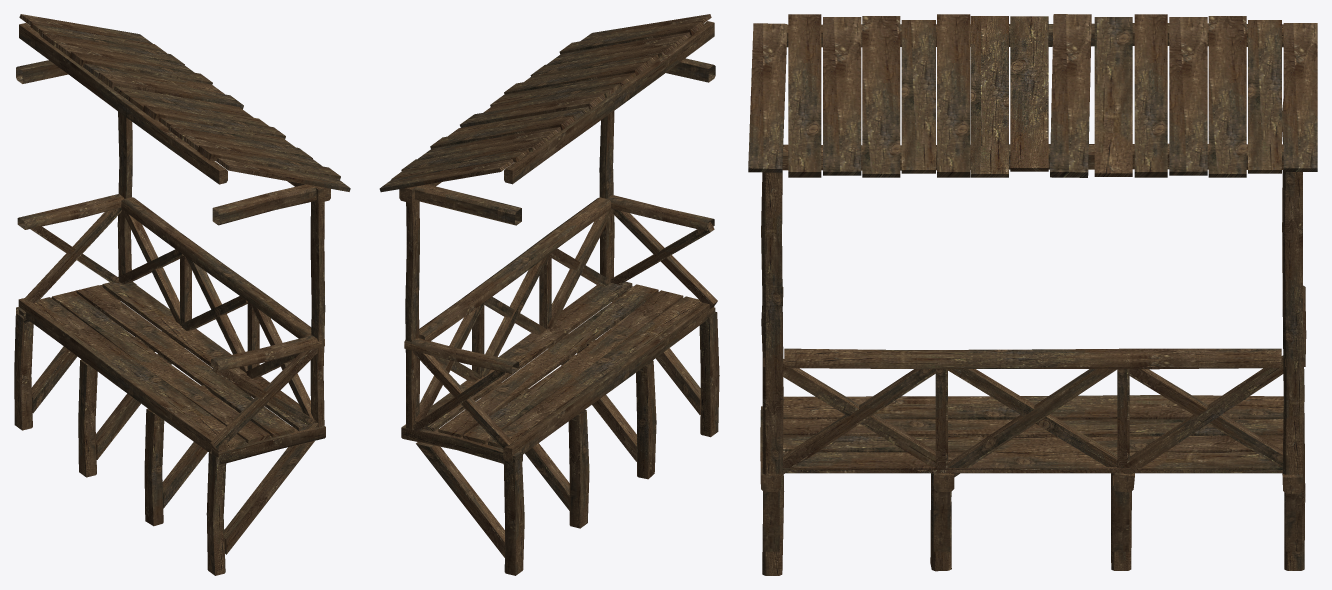
Rendered from OldHouseHayat.obj.
3 views of the same model, side by side, from view 1: azimuth 30°, elevation 25°; view 2: azimuth 150°, elevation 25°; view 3: azimuth 270°, elevation 25° (orthographic). The views are drawn at different scales.
Parts seen in each view (by area): view 1: Box08, Box09, Box06, Box10, Box14, Box07, Box01, Box05, Box49, Object03, Box48, Box47 (+37 smaller); view 2: Box08, Box09, Box06, Box10, Box14, Box07, Box01, Box11, Box52, Object03, Box46, Box47 (+36 smaller); view 3: Box14, Box07, Box05, Box33, Box11, Box32, Box37, Box42, Box34, Box36, Box41, Box31 (+29 smaller).
Part boxes in pixels (bbox=[...]): Box08: bbox=[76, 285, 294, 437]; Box09: bbox=[52, 291, 270, 443]; Box06: bbox=[18, 298, 227, 457]; Box10: bbox=[19, 23, 227, 184]; Box14: bbox=[121, 197, 311, 338]; Box07: bbox=[102, 281, 317, 431]; Box01: bbox=[33, 297, 245, 448]; Box05: bbox=[310, 201, 325, 427]; Box49: bbox=[224, 441, 314, 554]; Object03: bbox=[206, 451, 226, 575]; Box48: bbox=[144, 408, 164, 526]; Box47: bbox=[78, 359, 97, 477]; Box08: bbox=[438, 284, 658, 437]; Box09: bbox=[463, 290, 683, 444]; Box06: bbox=[503, 302, 714, 462]; Box10: bbox=[504, 21, 714, 184]; Box14: bbox=[419, 197, 610, 341]; Box07: bbox=[415, 281, 632, 431]; Box01: bbox=[488, 296, 701, 448]; Box11: bbox=[405, 200, 419, 429]; Box52: bbox=[416, 442, 504, 557]; Object03: bbox=[699, 311, 719, 437]; Box46: bbox=[503, 457, 524, 575]; Box47: bbox=[568, 409, 589, 528]; Box14: bbox=[784, 348, 1281, 369]; Box07: bbox=[783, 452, 1282, 473]; Box05: bbox=[761, 170, 783, 474]; Box33: bbox=[1050, 14, 1091, 177]; Box11: bbox=[1282, 170, 1304, 474]; Box32: bbox=[970, 16, 1008, 177]; Box37: bbox=[1208, 16, 1246, 177]; Box42: bbox=[862, 16, 900, 177]; Box34: bbox=[1094, 17, 1132, 176]; Box36: bbox=[1169, 17, 1207, 175]; Box41: bbox=[823, 17, 861, 175]; Box31: bbox=[1010, 16, 1048, 171].
Size of the model in its own units: 1.59 by 4.55 by 4.21.
1 material, 1 textured.
